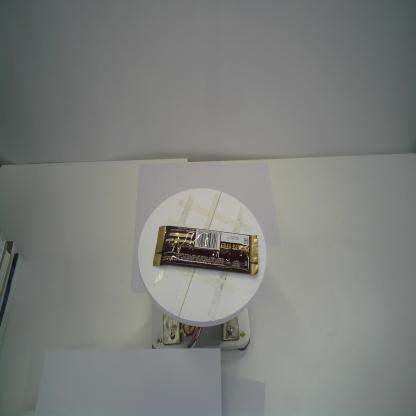Chocolate: (150, 222, 259, 276)
